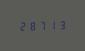eight: (28, 20, 37, 31)
one: (48, 19, 57, 30)
seven: (38, 20, 47, 30)
three: (58, 19, 67, 30)
two: (18, 20, 27, 31)
